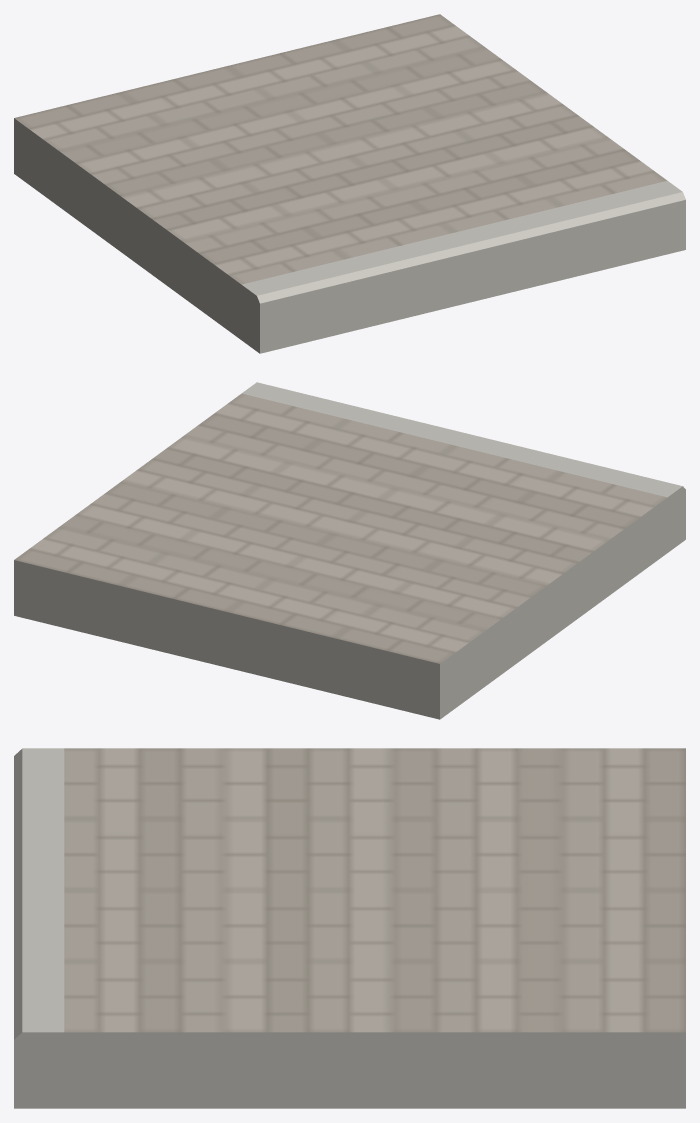
The model's file is SM_Ground_Sidewalk_200x200_01.fbx.
The picture shows the model from 3 angles, top to bottom: view 1: azimuth 30°, elevation 25°; view 2: azimuth 150°, elevation 25°; view 3: azimuth 270°, elevation 25°; orthographic projection. The views are drawn at different scales.
Visible parts, largest first — view 1: SM_Ground_Sidewalk_200x200_01; view 2: SM_Ground_Sidewalk_200x200_01; view 3: SM_Ground_Sidewalk_200x200_01.
Boxes of the visible parts, x1,y1,x2,y2 form: SM_Ground_Sidewalk_200x200_01: (14, 14, 685, 353); SM_Ground_Sidewalk_200x200_01: (14, 382, 685, 719); SM_Ground_Sidewalk_200x200_01: (14, 748, 685, 1108).
Bounding box in the file's own units: 2 × 0.25 × 2.
Materials: 1 (1 with a texture image).
